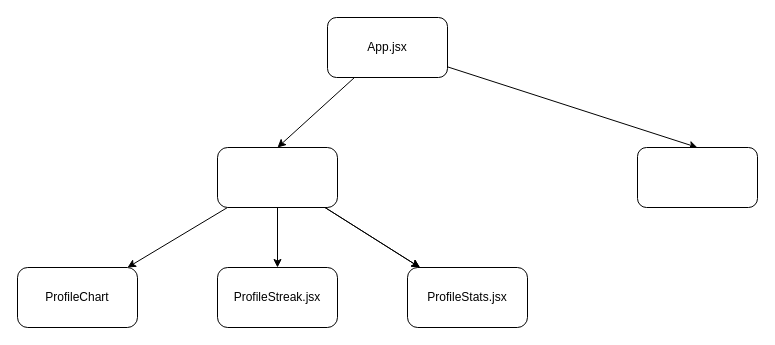
This 775x345 diagram has some shape labels left out. Here are the shapes that lost their labels. From the top down, the centre of each, then its label:
pixel 277 177: Form.jsx
pixel 697 177: Preview.jsx
